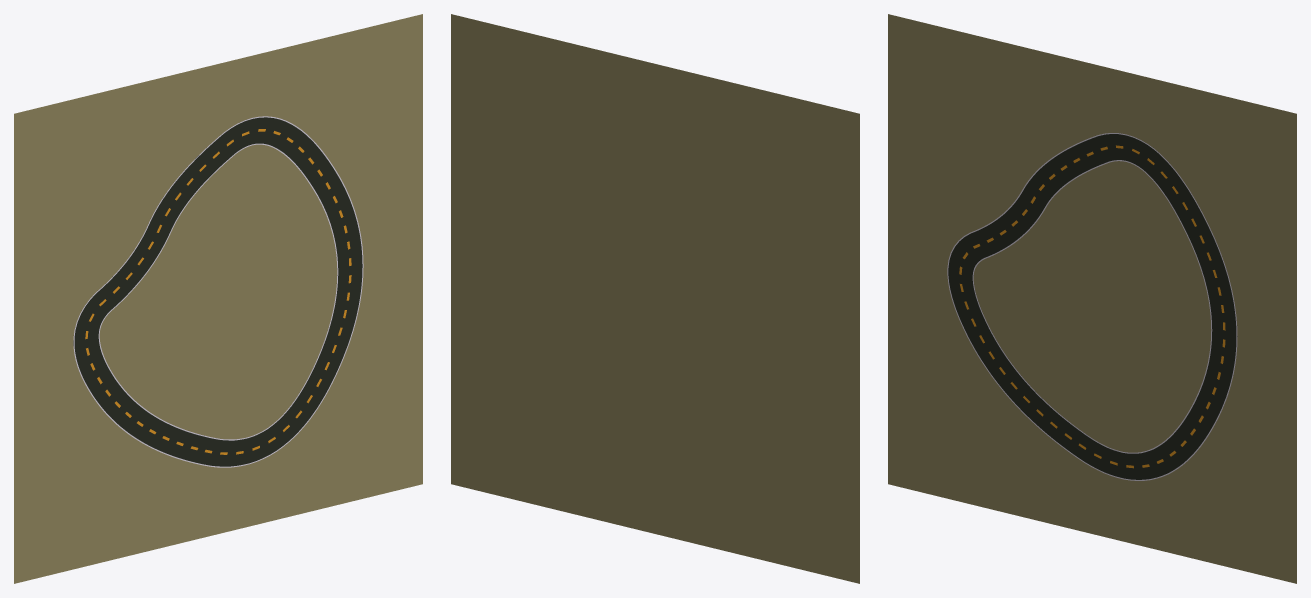
Rendered from track.obj.
3 views of the same model, side by side, from view 1: azimuth 30°, elevation 25°; view 2: azimuth 150°, elevation 25°; view 3: azimuth 330°, elevation 25° (orthographic).
Size of the model in its own units: 16.29 by 17.89 by 0.0025.
4 materials, 4 textured.
